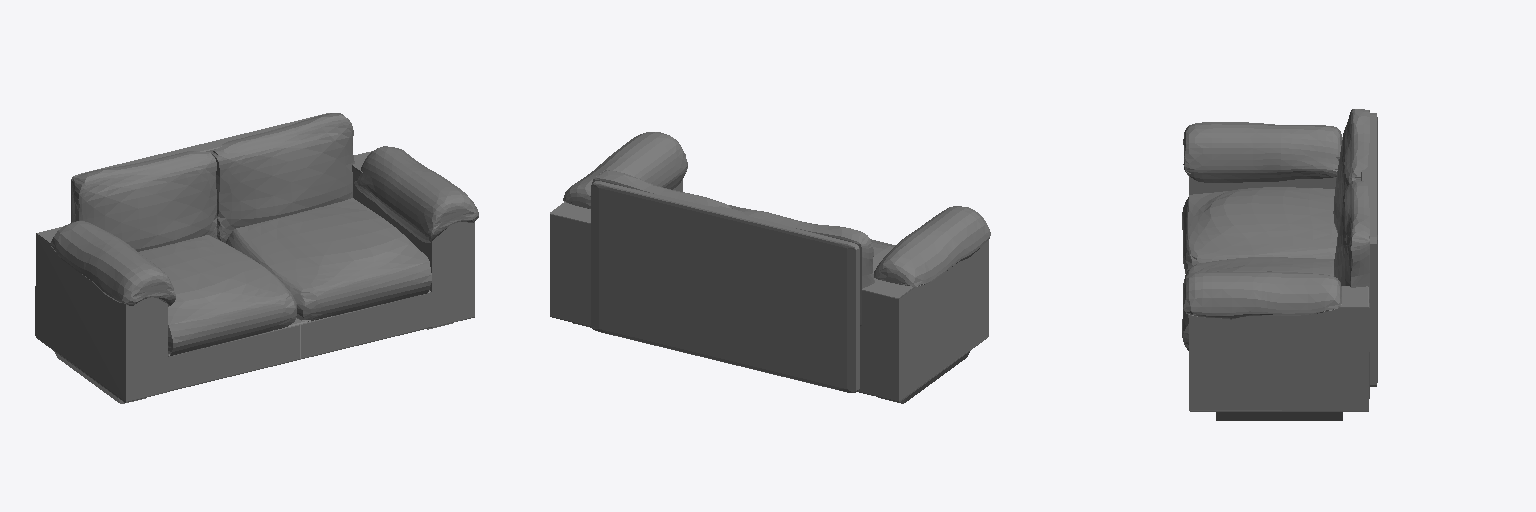
Rendered from Free_Sofa_04.obj.
3 views of the same model, side by side, from view 1: azimuth 30°, elevation 25°; view 2: azimuth 150°, elevation 25°; view 3: azimuth 270°, elevation 25° (orthographic).
Bounding box in the file's own units: 0.6524 × 0.2936 × 0.3081.